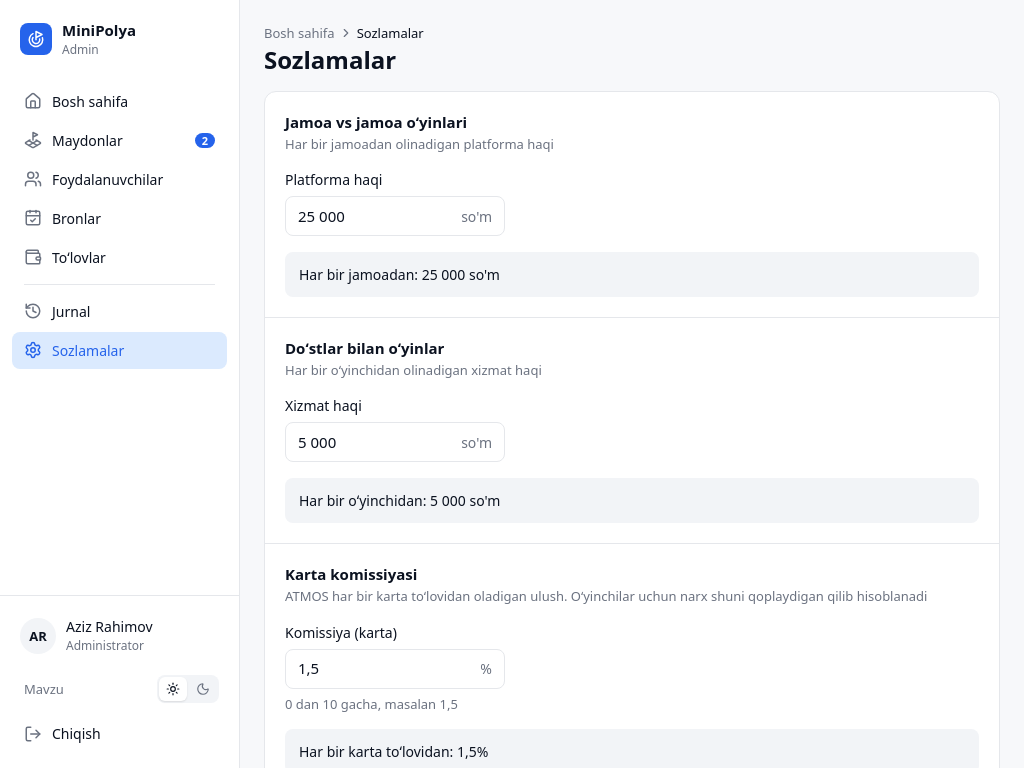
Scenario: Sozlamalar › "Bekor qilish" puts the saved values back
Replace the text in the field labelled "Platforma haqi" with "15 000" at {"x": 376, "y": 216}, box x1=298 y1=206 x2=453 y2=227
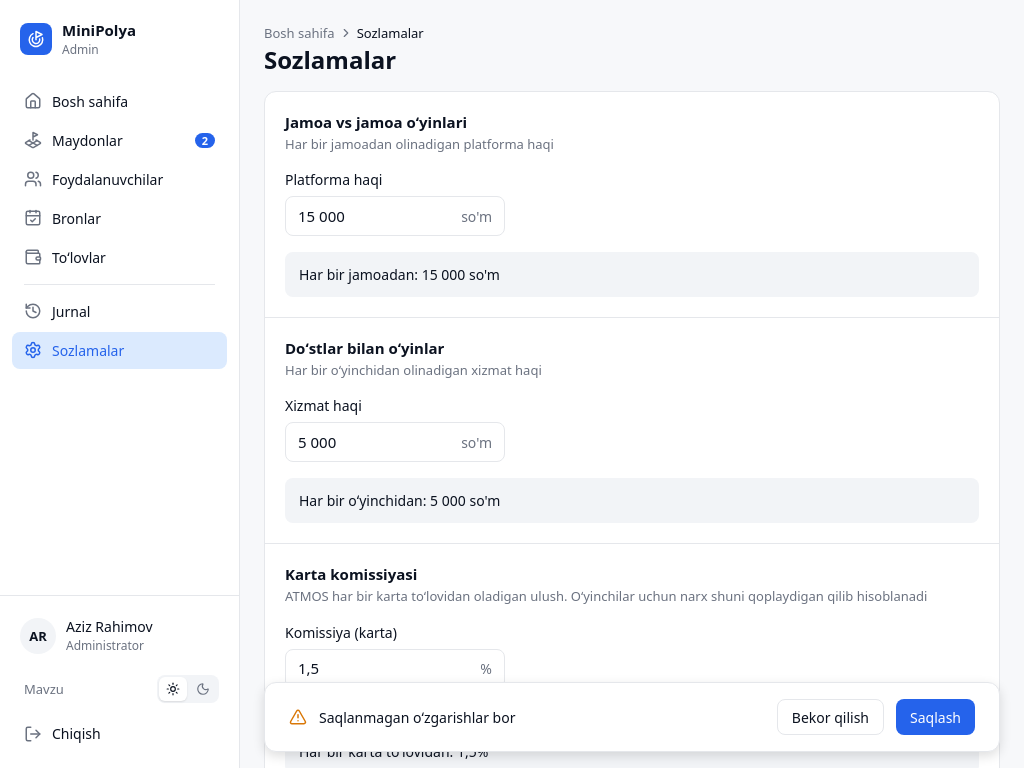
Click the button "Bekor qilish".
click(830, 717)  # box x1=777 y1=699 x2=884 y2=735
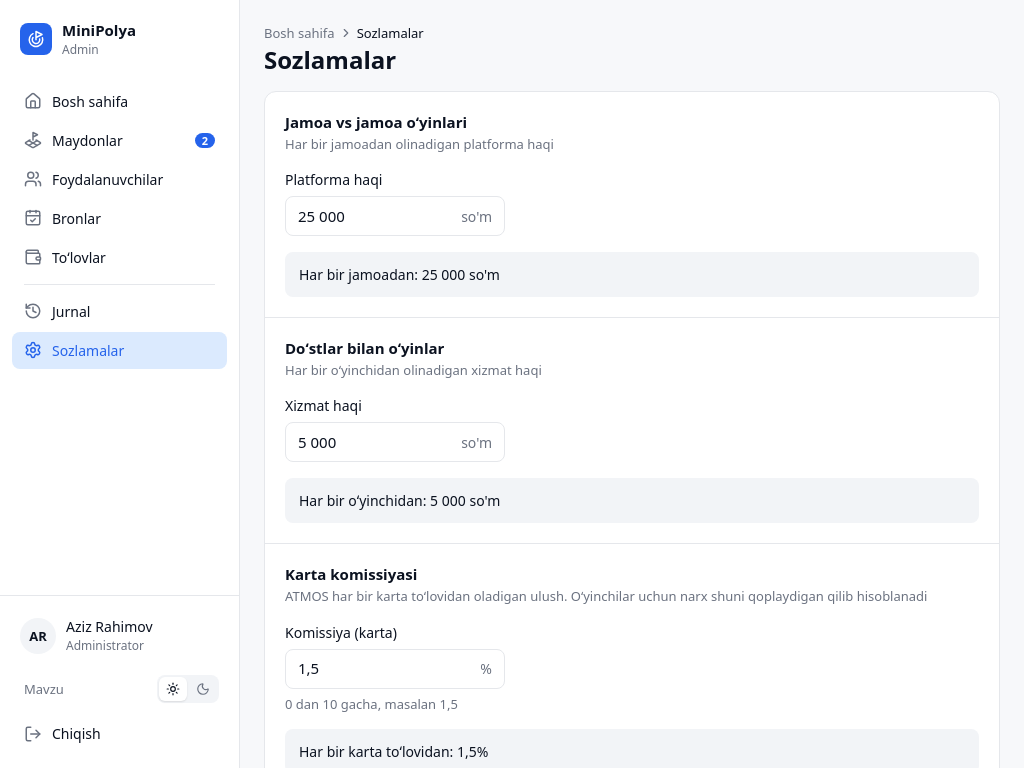
Check: the field labelled "Platforma haqi" holds "25 000", box x1=298 y1=206 x2=453 y2=227
Check: the text "Saqlanmagan oʻzgarishlar bor" is gone
